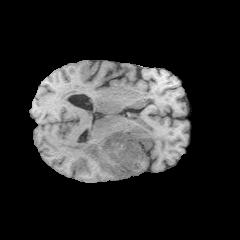glioma: (75, 126, 151, 170)
